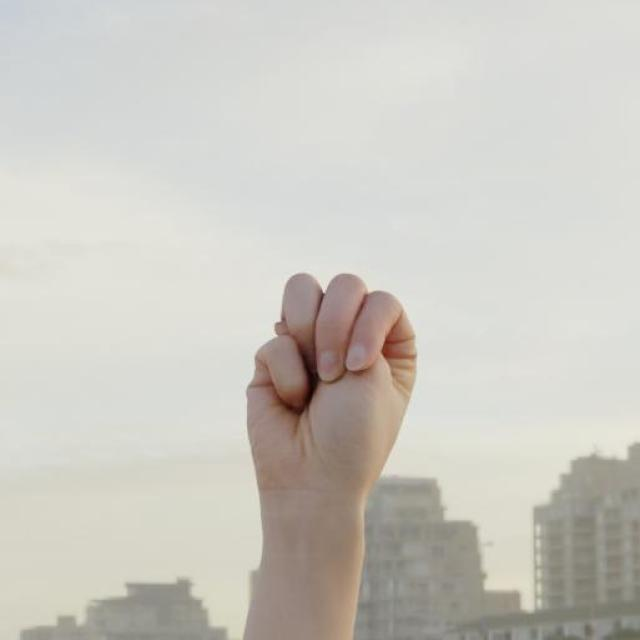M: (239, 266, 420, 500)
